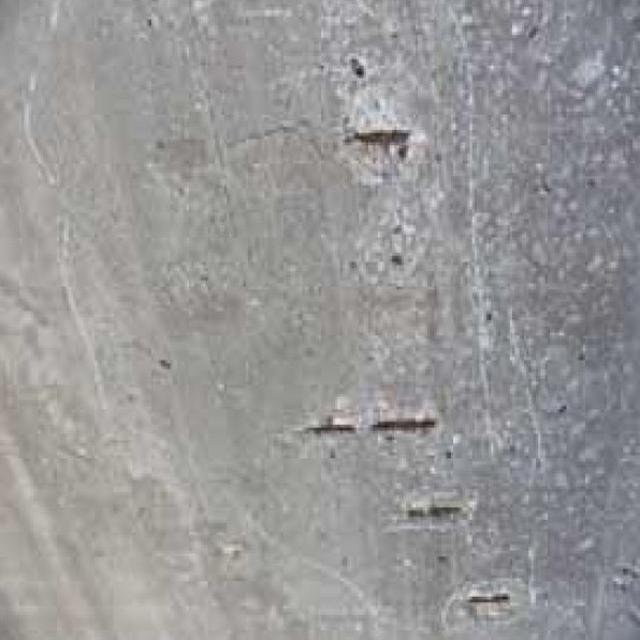spalling: (286, 393, 537, 626), (327, 61, 430, 210)
